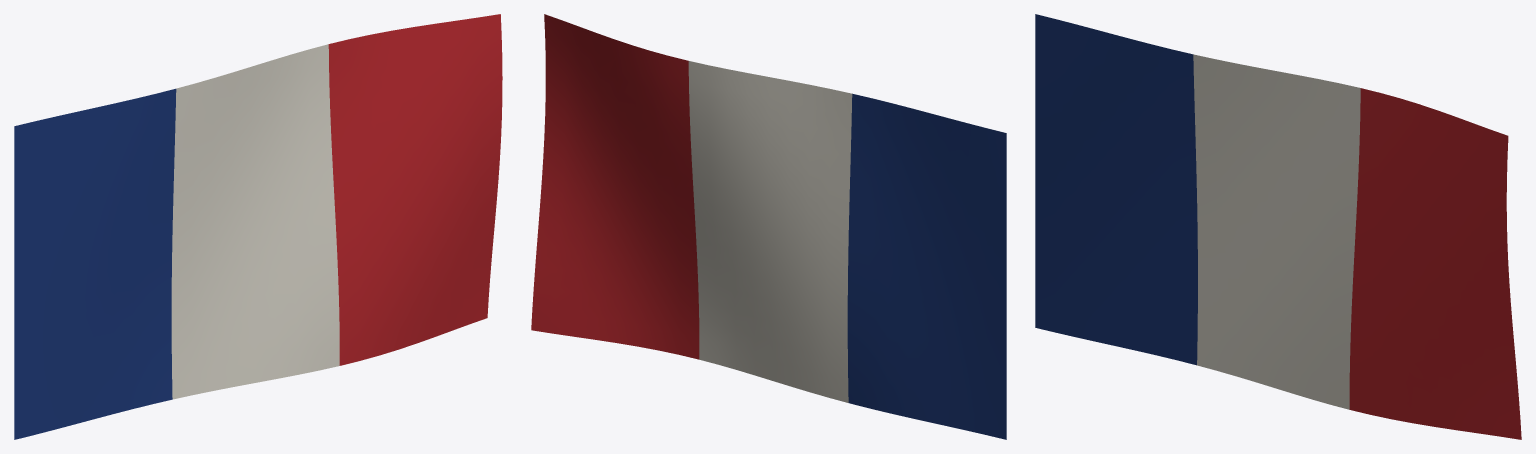
The model's file is flag.glb.
3 renders of one model, left to right at view 1: azimuth 30°, elevation 25°; view 2: azimuth 150°, elevation 25°; view 3: azimuth 330°, elevation 25°, orthographic. The views are drawn at different scales.
Visible parts, largest first — view 1: tricolor-red, tricolor-white, tricolor-blue; view 2: tricolor-blue, tricolor-white, tricolor-red; view 3: tricolor-white, tricolor-blue, tricolor-red.
Part boxes in pixels (left/top/right/bottom): tricolor-red: left=328, top=14, right=502, bottom=365; tricolor-white: left=171, top=44, right=339, bottom=399; tricolor-blue: left=14, top=88, right=176, bottom=439; tricolor-blue: left=847, top=93, right=1006, bottom=439; tricolor-white: left=688, top=61, right=852, bottom=402; tricolor-red: left=531, top=14, right=699, bottom=359; tricolor-white: left=1193, top=54, right=1360, bottom=409; tricolor-blue: left=1035, top=14, right=1197, bottom=365; tricolor-red: left=1349, top=88, right=1521, bottom=439.
Bounding box in the file's own units: 8 × 5 × 0.4316.
